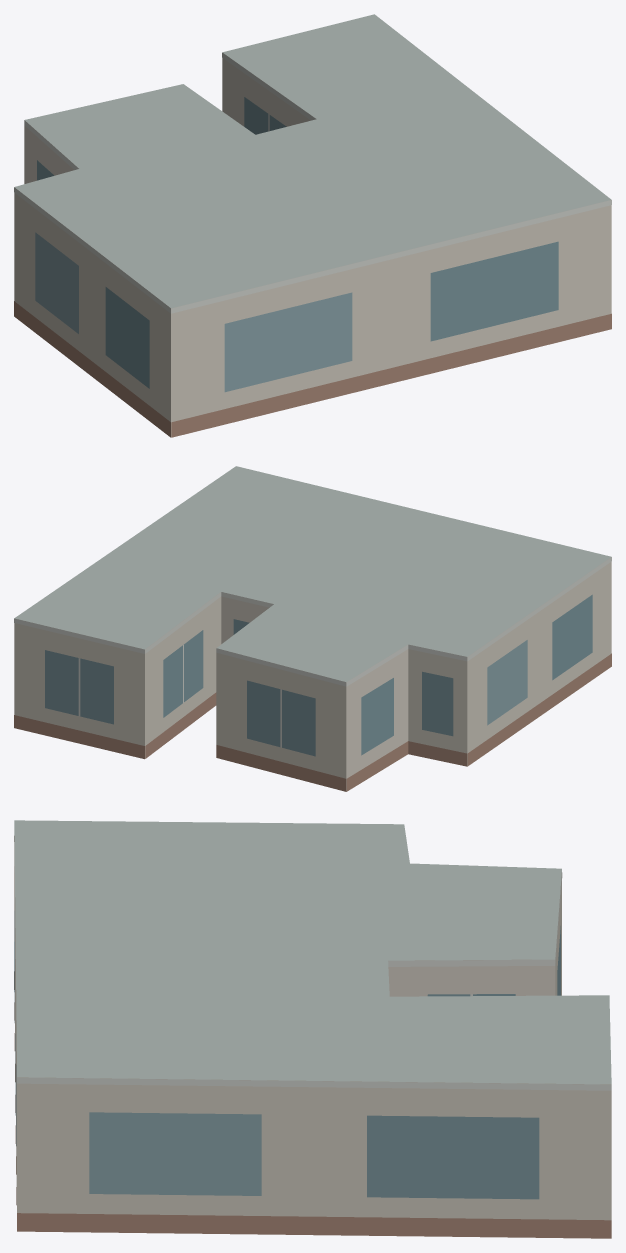
File: survey-upis-32918069.glb
3 renders of one model, top to bottom at view 1: azimuth 30°, elevation 25°; view 2: azimuth 150°, elevation 25°; view 3: azimuth 270°, elevation 25°, orthographic. The views are drawn at different scales.
Visible parts, largest first — view 1: survey-upis-32918069.tmp; view 2: survey-upis-32918069.tmp; view 3: survey-upis-32918069.tmp.
Part boxes in pixels (x1=…): survey-upis-32918069.tmp: x1=14, y1=14, x2=611, y2=437; survey-upis-32918069.tmp: x1=14, y1=466, x2=611, y2=791; survey-upis-32918069.tmp: x1=14, y1=820, x2=611, y2=1238.
Bounding box in the file's own units: 11.22 × 3.05 × 10.73.
